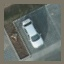car: (27, 17, 39, 47)
